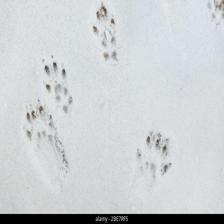squirrel: (39, 57, 79, 117)
